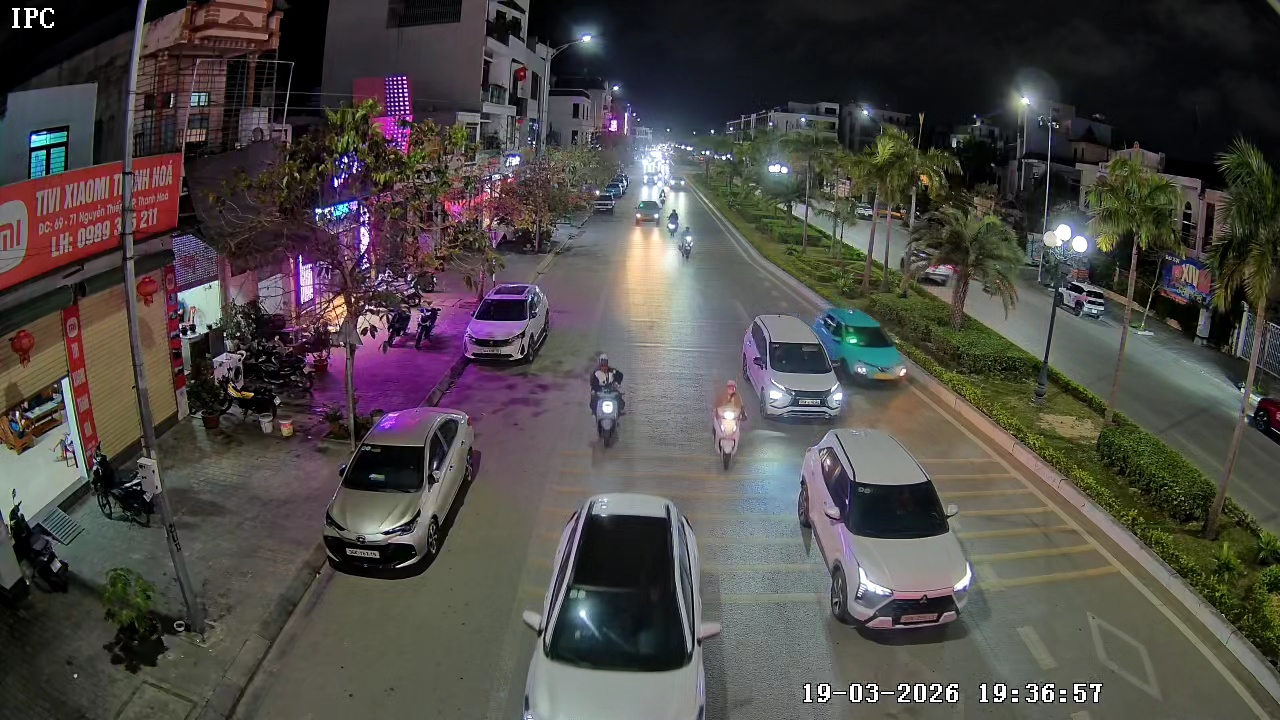car: (521, 490, 726, 719), (797, 427, 976, 636), (323, 405, 480, 576), (742, 313, 847, 420), (813, 307, 908, 387), (463, 281, 552, 365), (634, 195, 662, 223)
motorbike: (588, 354, 627, 449), (710, 382, 748, 472), (678, 220, 697, 260)
